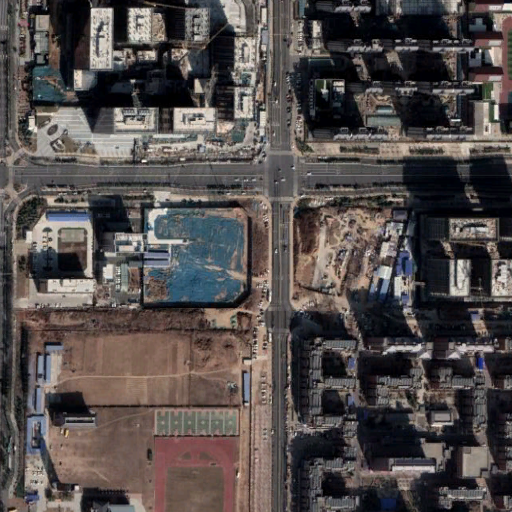cw: (142, 206, 252, 305), (30, 64, 72, 103)
